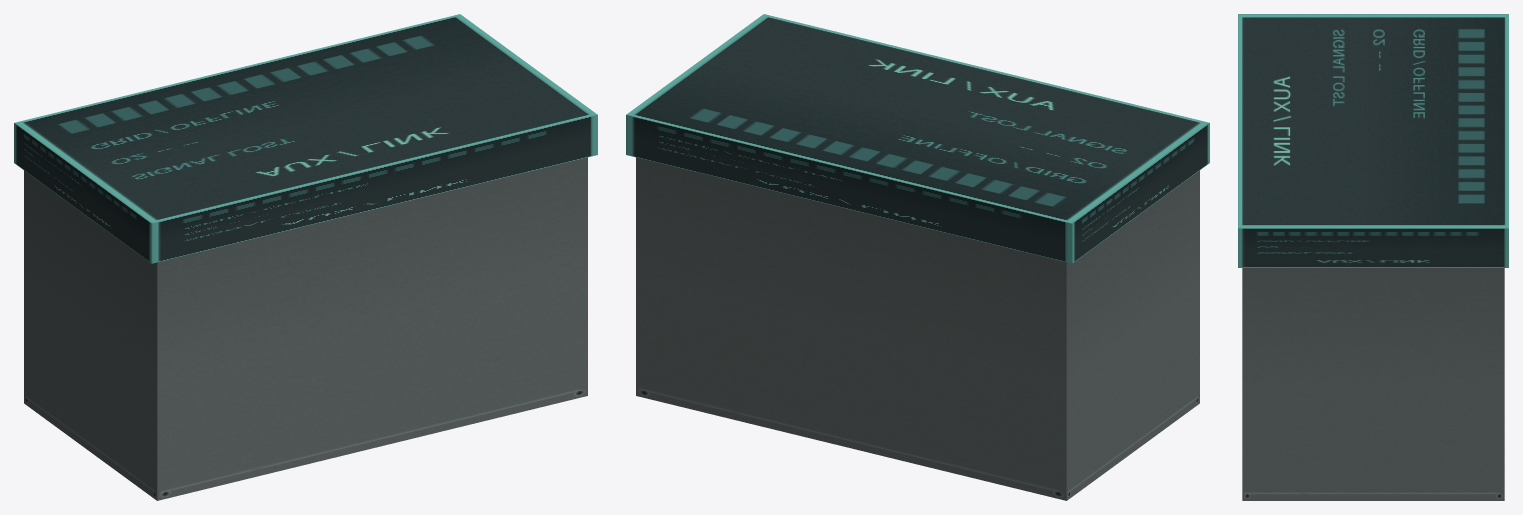
The model's file is cargo_container_LOD3.obj.
The picture shows the model from 3 angles, left to right: view 1: azimuth 30°, elevation 25°; view 2: azimuth 150°, elevation 25°; view 3: azimuth 270°, elevation 25°; orthographic projection.
Parts seen in each view (by area): view 1: L02_cargo_container_LOD3; view 2: L02_cargo_container_LOD3; view 3: L02_cargo_container_LOD3.
Boxes of the visible parts, x1,y1,x2,y2 form: L02_cargo_container_LOD3: (14,14,597,500); L02_cargo_container_LOD3: (626,14,1209,500); L02_cargo_container_LOD3: (1238,14,1508,500).
Bounding box in the file's own units: 2.9 × 1.75 × 1.55.
Materials: 1 (1 with a texture image).
